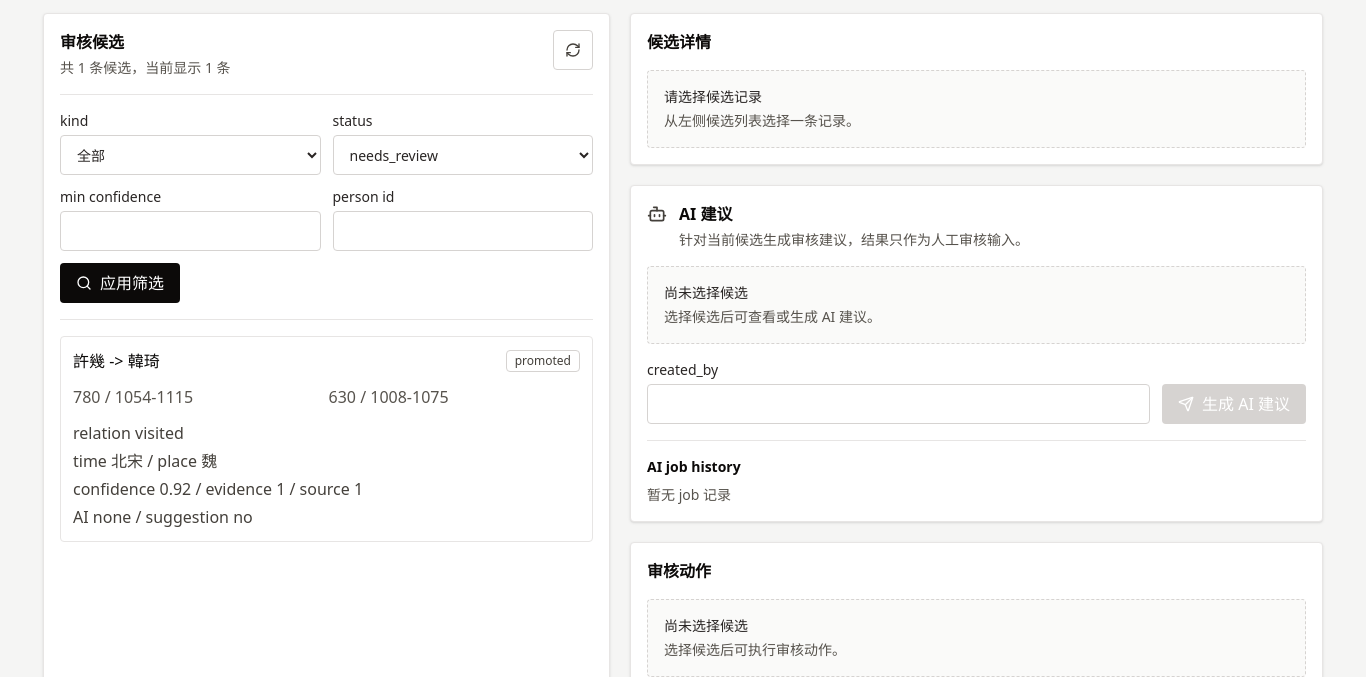
Scenario: AdminReviewWorkspace › loads candidates from admin APIs and retracts linked encounters
The image size is (1366, 677).
Check: the text "許幾 -> 韓琦" is shown, box [73,349,160,373]
Click the button named "relationship 960664" at (117, 360), box [60,336,593,542]
(page scrolled)
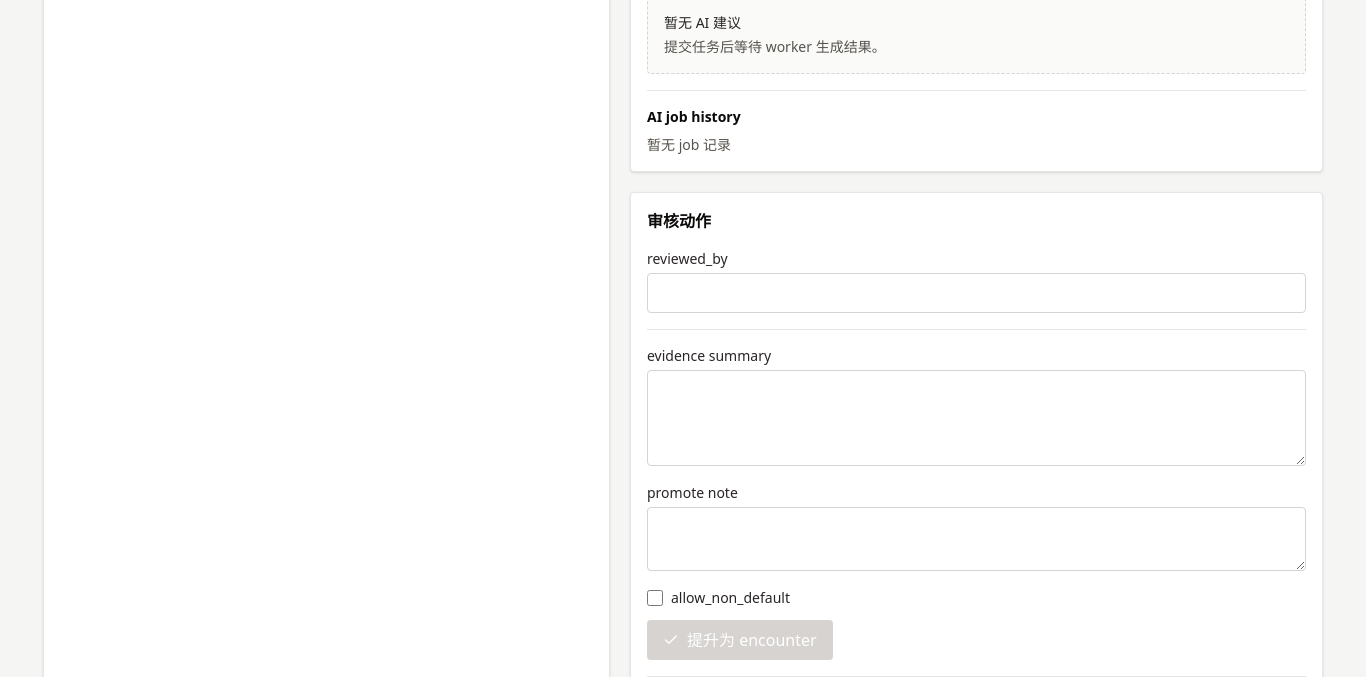
Type "local" into the field labelled "reviewed_by" at (976, 293), box [647,273,1306,313]
(page scrolled)
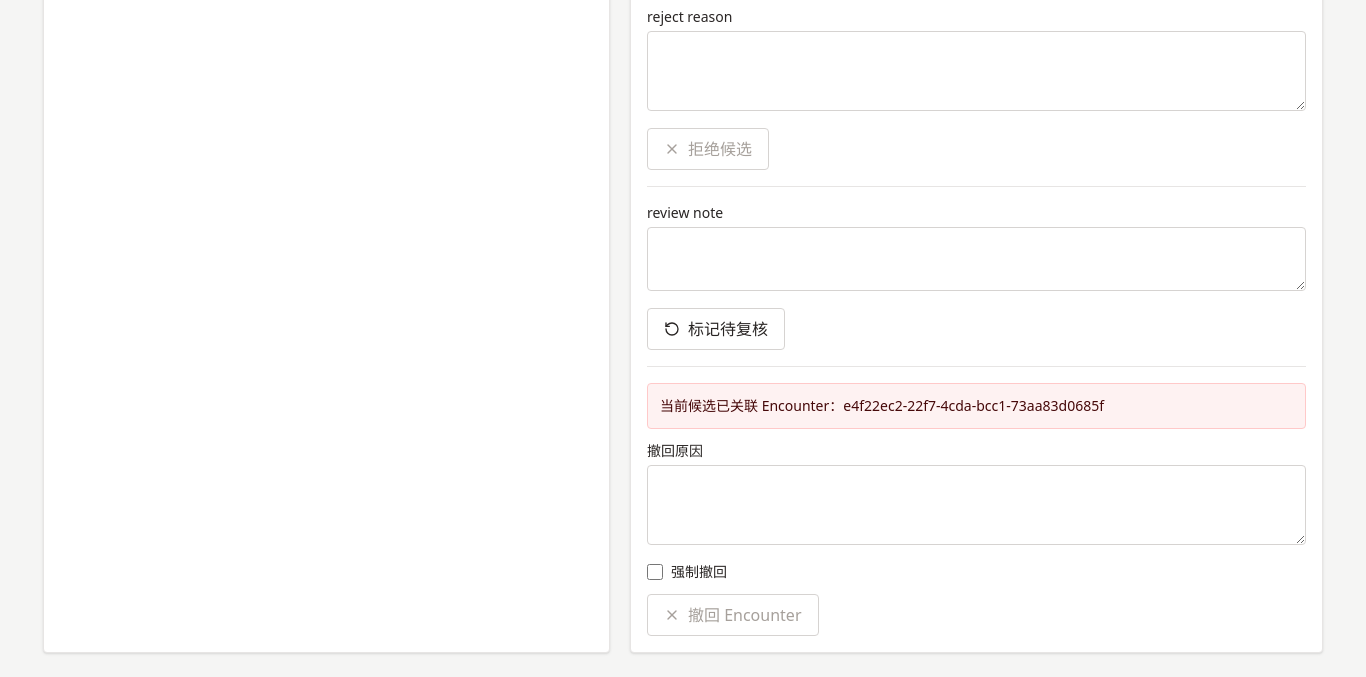
Type "误判" into the text box labelled "撤回原因" at (976, 505), box [647,465,1306,545]
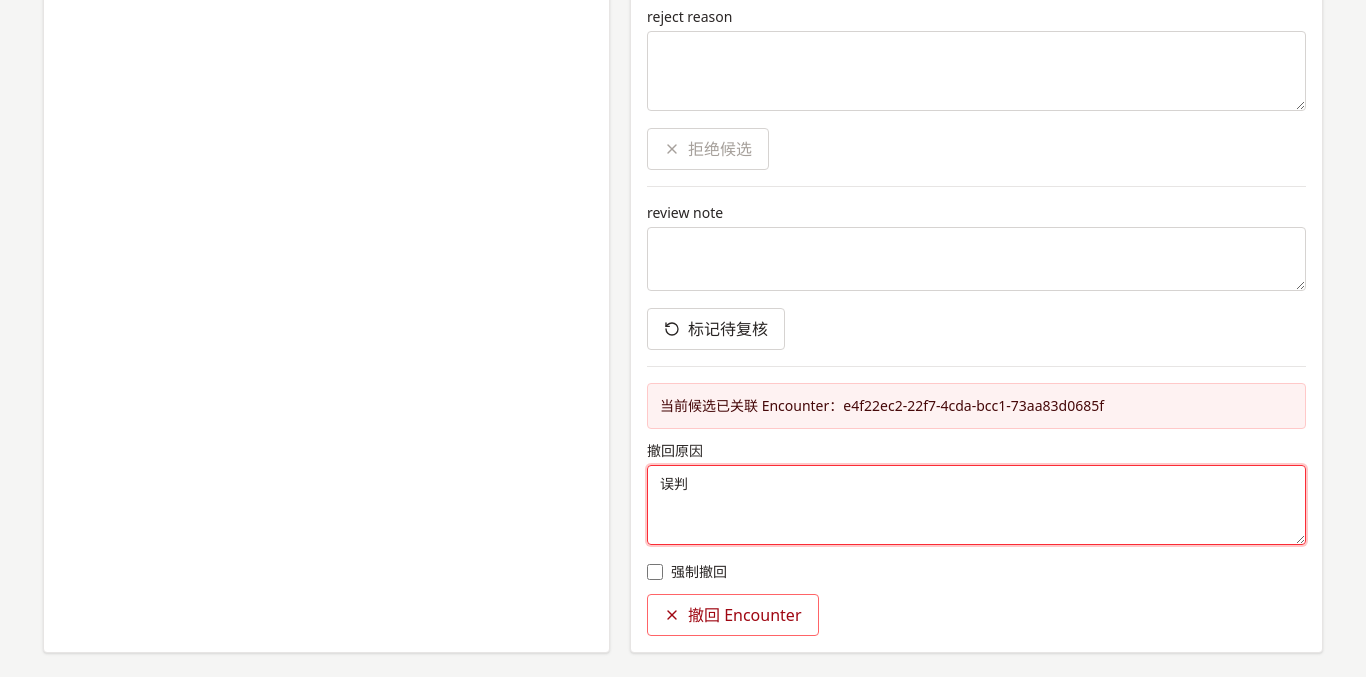
Click the button "撤回 Encounter" at (733, 615), box [647,594,818,636]
(page scrolled)
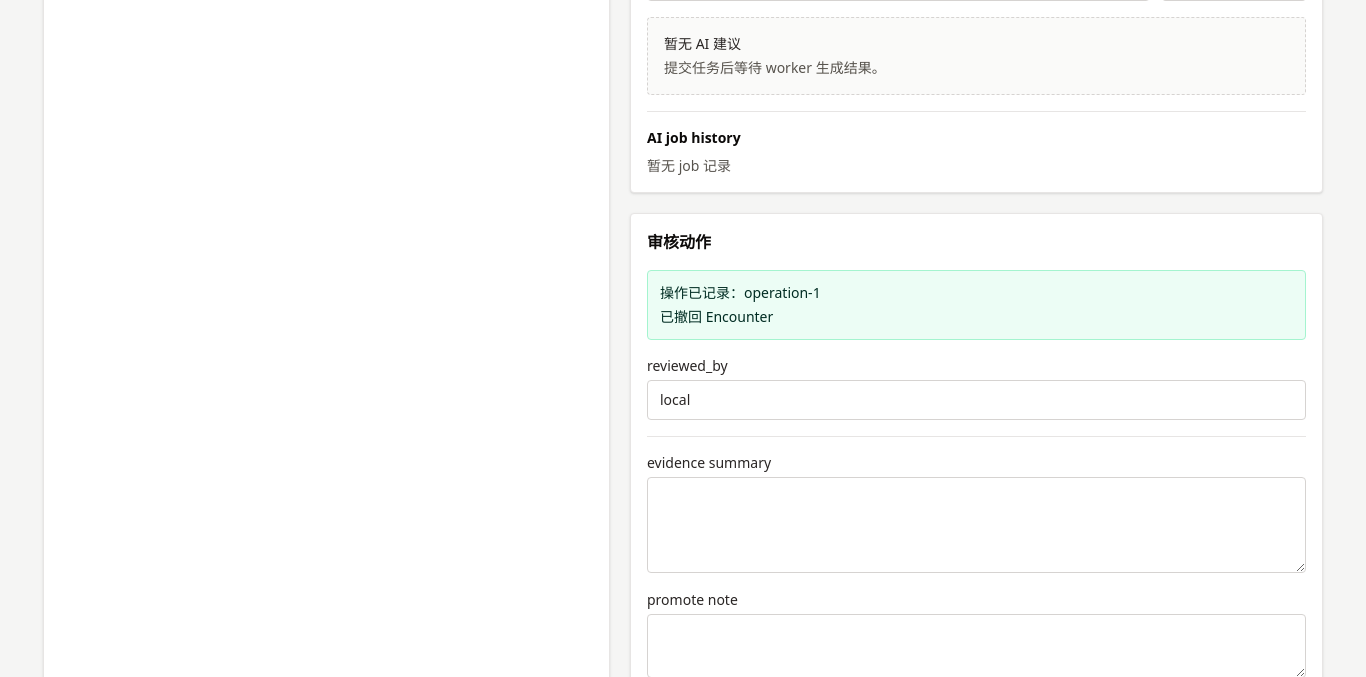
Check: the text "操作已记录：operation-1" is shown, box [660,283,821,302]
